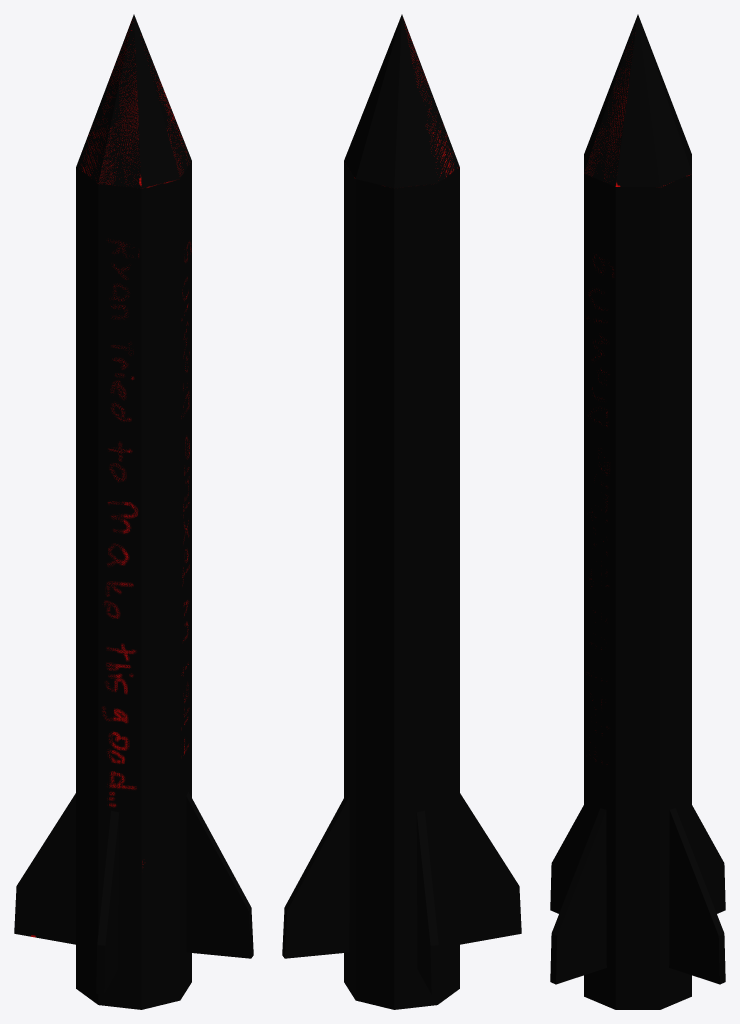
Rendered from Missle.obj.
The picture shows the model from 3 angles, left to right: view 1: azimuth 30°, elevation 25°; view 2: azimuth 150°, elevation 25°; view 3: azimuth 270°, elevation 25°; orthographic projection.
Parts seen in each view (by area): view 1: Missle_Cube; view 2: Missle_Cube; view 3: Missle_Cube.
Boxes of the visible parts, x1,y1,x2,y2 form: Missle_Cube: [14, 14, 253, 1009]; Missle_Cube: [282, 14, 521, 1009]; Missle_Cube: [550, 14, 725, 1009].
Bounding box in the file's own units: 1 × 5.9 × 0.9635.
